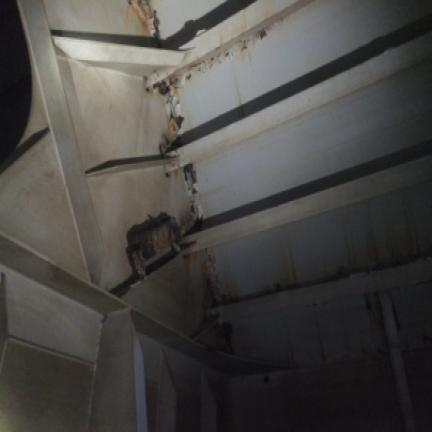besi_tidak_karat: (0, 235, 272, 374), (198, 60, 431, 221), (168, 41, 426, 171), (182, 0, 431, 131), (17, 0, 102, 284), (149, 0, 313, 83), (0, 133, 88, 278), (58, 58, 164, 170), (88, 167, 187, 284), (0, 339, 92, 431), (6, 272, 101, 359), (53, 36, 187, 74), (43, 0, 148, 36)
karat: (111, 212, 190, 295), (182, 163, 202, 225), (158, 111, 183, 157), (166, 118, 178, 143), (168, 91, 178, 113), (153, 81, 169, 94), (154, 10, 159, 46)
